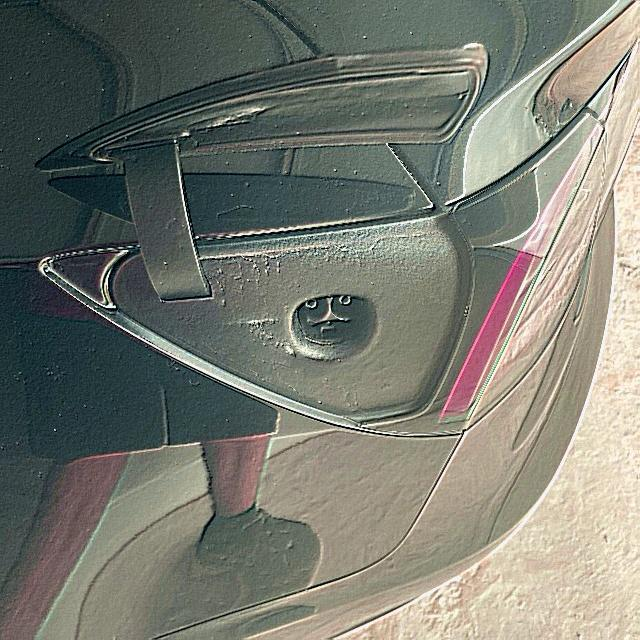Tesla Model-S-: (269, 283, 404, 383)
